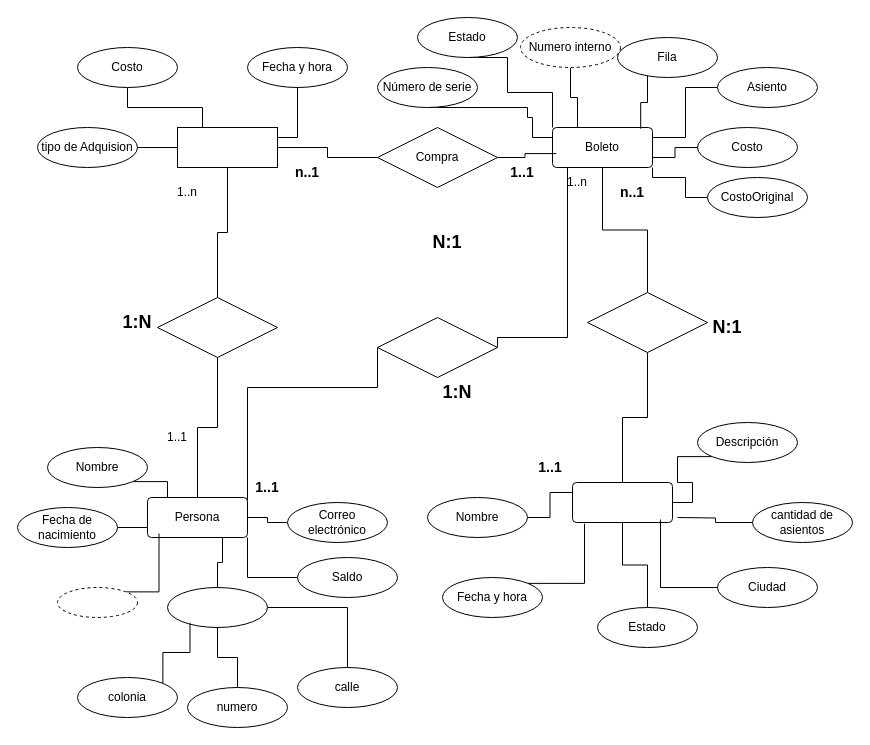
The diagram is 870 pixels wide and 745 high, and some of its shapes have lost their labels. The box of each missing label's shape, as (x1, y1, x2, y2) in pixels:
Domicilio: (166, 586, 268, 628)
Edad: (56, 586, 138, 618)
Evento: (572, 482, 672, 522)
Hace: (156, 296, 278, 358)
Para: (586, 292, 708, 352)
Transacción: (176, 126, 278, 168)
vende: (376, 316, 498, 378)
